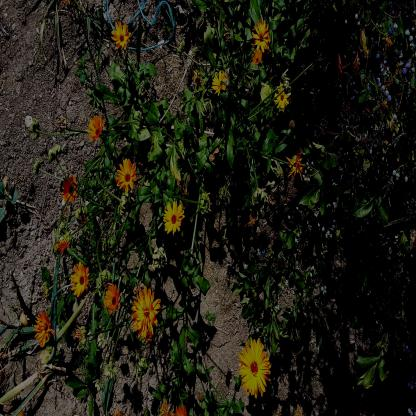marigold: (238, 336, 270, 399), (132, 286, 160, 338), (162, 199, 186, 237), (115, 156, 138, 193), (34, 311, 54, 349), (251, 18, 272, 54), (102, 283, 121, 317), (86, 112, 106, 142), (111, 21, 131, 51), (71, 263, 89, 296), (273, 81, 290, 111), (62, 174, 78, 202), (210, 72, 228, 94), (251, 48, 262, 66)
